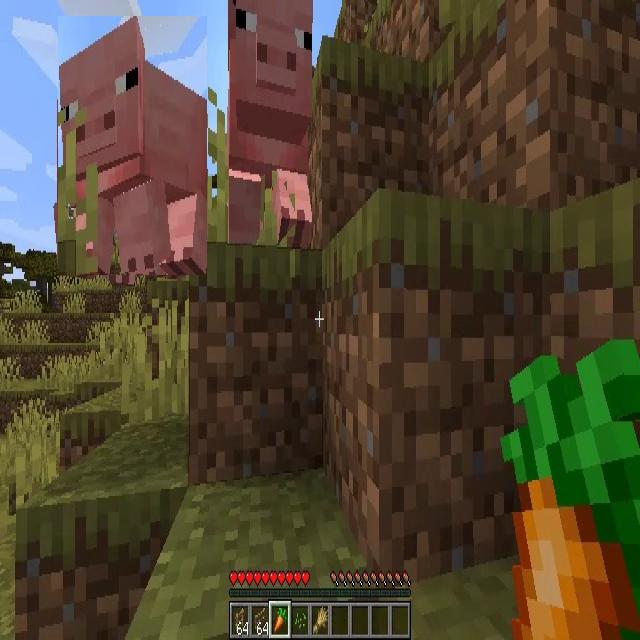pig: (58, 16, 207, 275), (229, 0, 313, 243)
